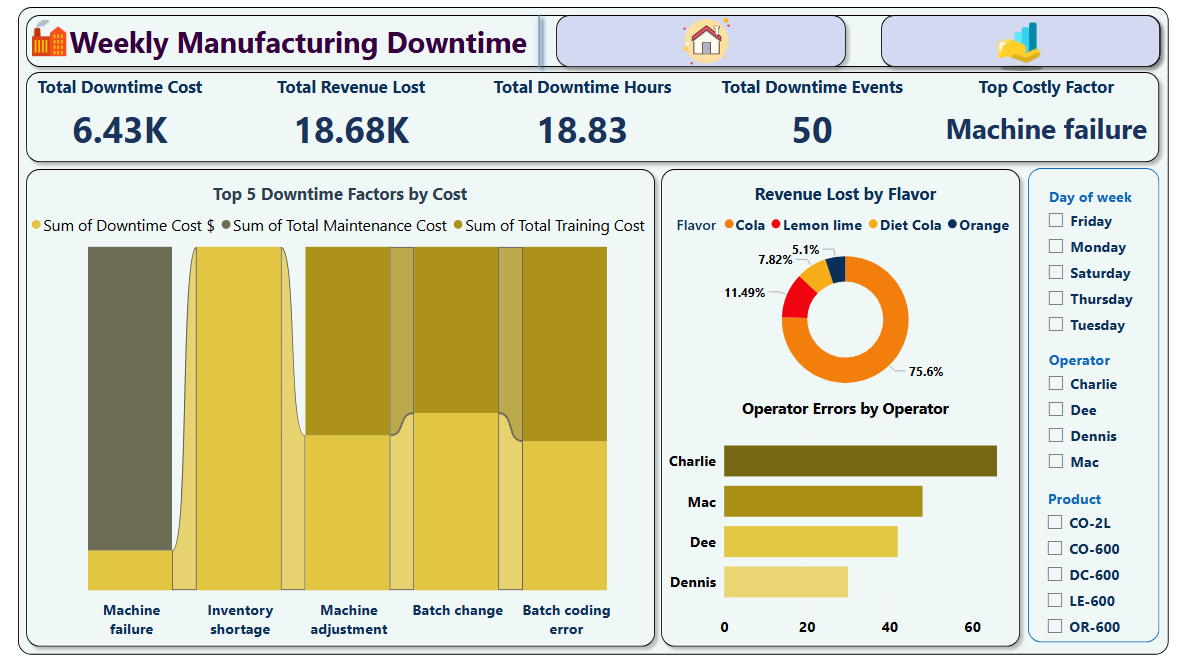

The dashboard page shown, as its layout file describes it:
{"tool":"powerbi","page":{"name":"👀Overview ","canvas":[1280,720],"ordinal":1},"visuals":[{"type":"shape","box":[1.5,0,1278.5,719.7],"z":0},{"type":"shape","box":[1.5,62.9,1277.1,118.5],"z":1000},{"type":"shape","box":[1.5,171.2,716.8,548.6],"z":2000},{"type":"shape","box":[706.6,171.2,416.9,548.6],"z":3000},{"type":"shape","box":[1123.5,178.5,146.3,528.1],"z":4000},{"type":"card","title":"Total Downtime Events","fields":{"Values":["line-downtime.Number of Downtime Events"]},"box":[770.2,76.1,226.7,95.1],"z":5000},{"type":"card","title":"Total Downtime Hours","fields":{"Values":["line-downtime.Total Downtime Hours"]},"box":[513.5,76.1,229.7,95.1],"z":6000},{"type":"card","title":"Total Revenue Lost","fields":{"Values":["line-downtime.Total Revenue Lost"]},"box":[255.3,76.1,231.1,95.1],"z":7000},{"type":"card","title":"Total Downtime Cost","fields":{"Values":["line-downtime.Total Cost2"]},"box":[0,76.1,228.2,95.1],"z":8000},{"type":"slicer","title":"Day","fields":{"Values":["line-productivity.Day of week"]},"box":[1133.7,194.6,146.3,181.4],"z":9000},{"type":"slicer","fields":{"Values":["products.Product"]},"box":[1132.3,529.6,147.7,179.9],"z":10000},{"type":"hundredPercentStackedColumnChart","title":"Top 5 Downtime Factors by Cost","fields":{"Y":["Sum(line-downtime.Downtime Cost $)","Sum(line-downtime.Total Maintenance Cost)","Sum(line-downtime.Total Training Cost)"],"Category":["downtime-factors.Description"]},"box":[5.9,194.6,706.6,514.9],"z":11000},{"type":"donutChart","title":" Revenue Lost by Flavor","fields":{"Category":["products.Flavor"],"Y":["Sum(line-downtime.Revenue Lost)"]},"box":[718.3,194.6,405.2,248.7],"z":12000},{"type":"clusteredBarChart","title":"Operator Errors by Operator","fields":{"Category":["line-productivity.Operator"],"Y":["line-downtime.Operator Errors Count"]},"box":[718.3,433,405.2,276.5],"z":13000},{"type":"card","title":"Top Costly Factor","fields":{"Values":["line-downtime.Most Costly Downtime Factor"]},"box":[1024,76.1,238.4,95.1],"z":14000},{"type":"slicer","fields":{"Values":["line-productivity.Operator"]},"box":[1133.7,376,144.8,153.6],"z":15000},{"type":"shape","box":[1.5,0,1278.5,75.6],"z":16000},{"type":"shape","box":[590.5,0,340,75.7],"z":17000},{"type":"shape","box":[951.6,0,328.4,75.6],"z":18000},{"type":"textbox","box":[35.8,11,707.4,96.3],"z":19000},{"type":"shape","box":[550.5,0,60.6,75.7],"z":20000},{"type":"image","box":[963.3,0,306.6,75.6],"z":21000},{"type":"image","box":[611.1,0,309.7,75.7],"z":22000},{"type":"image","box":[6.9,5.5,57.8,57.8],"z":23000}]}

Visuals, with their boxes in screenshot pixels (x1, y1, x2, y2), scaled from the page's 1280x720 canvas onto the 1186x664 screenshot:
shape: left=1, top=0, right=1185, bottom=663
shape: left=1, top=58, right=1185, bottom=167
shape: left=1, top=158, right=666, bottom=663
shape: left=655, top=158, right=1041, bottom=663
shape: left=1041, top=165, right=1177, bottom=652
"Total Downtime Events" card: left=714, top=70, right=924, bottom=158
"Total Downtime Hours" card: left=476, top=70, right=689, bottom=158
"Total Revenue Lost" card: left=237, top=70, right=451, bottom=158
"Total Downtime Cost" card: left=0, top=70, right=211, bottom=158
"Day" slicer: left=1050, top=179, right=1185, bottom=347
slicer - products.Product: left=1049, top=488, right=1185, bottom=654
"Top 5 Downtime Factors by Cost" hundredPercentStackedColumnChart: left=5, top=179, right=660, bottom=654
" Revenue Lost by Flavor" donutChart: left=666, top=179, right=1041, bottom=409
"Operator Errors by Operator" clusteredBarChart: left=666, top=399, right=1041, bottom=654
"Top Costly Factor" card: left=949, top=70, right=1170, bottom=158
slicer - line-productivity.Operator: left=1050, top=347, right=1185, bottom=488
shape: left=1, top=0, right=1185, bottom=70
shape: left=547, top=0, right=862, bottom=70
shape: left=882, top=0, right=1185, bottom=70
textbox: left=33, top=10, right=689, bottom=99
shape: left=510, top=0, right=566, bottom=70
image: left=893, top=0, right=1177, bottom=70
image: left=566, top=0, right=853, bottom=70
image: left=6, top=5, right=60, bottom=58
